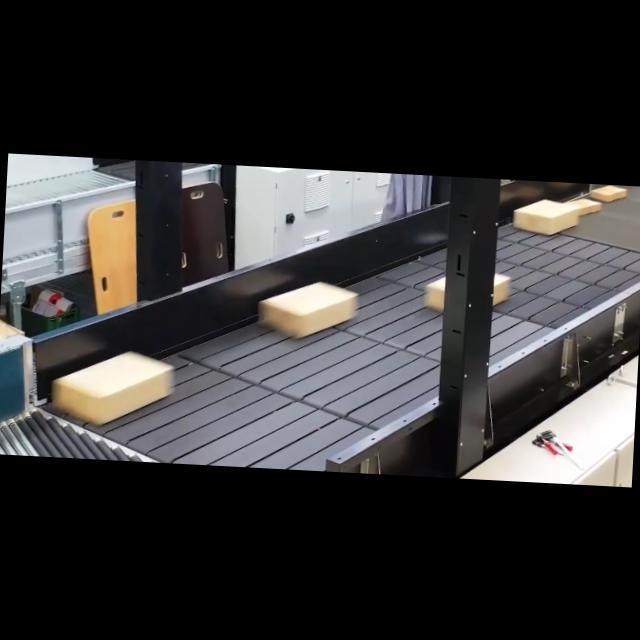box: (52, 347, 174, 422), (258, 280, 358, 340), (512, 198, 580, 235), (566, 198, 601, 215), (594, 183, 626, 201)
